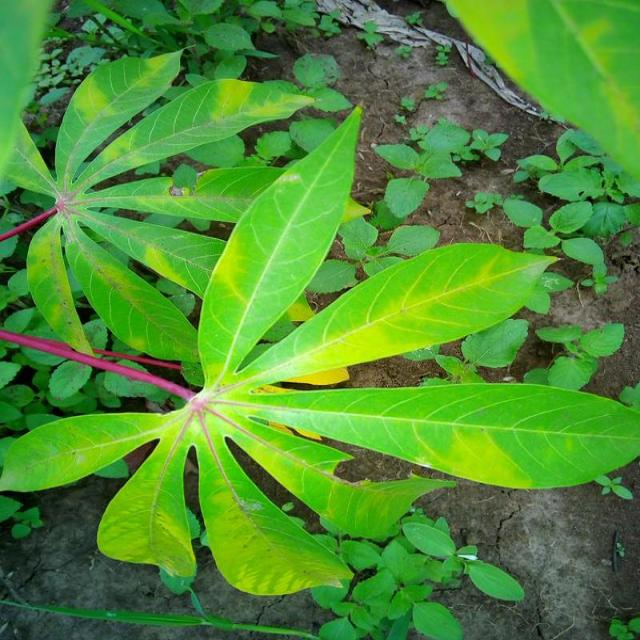cassava leaf: (0, 74, 638, 602), (195, 102, 363, 390), (443, 0, 638, 196)
